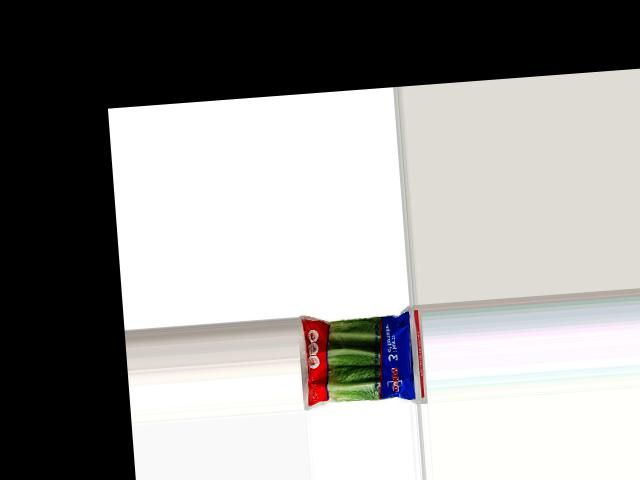lettuce: (297, 310, 421, 412)
